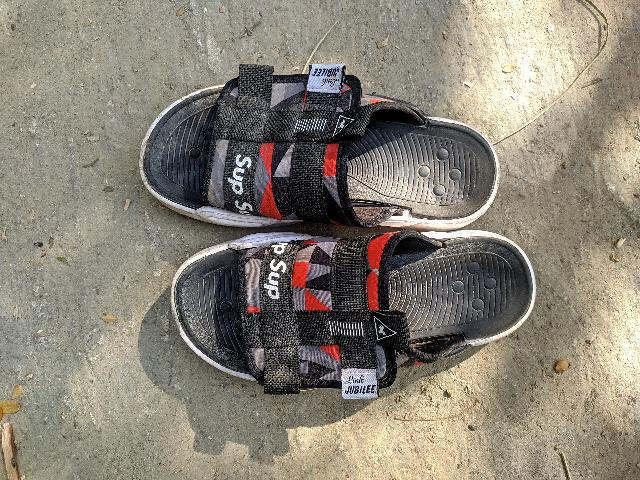sandal: (110, 45, 517, 267), (143, 223, 548, 405)
